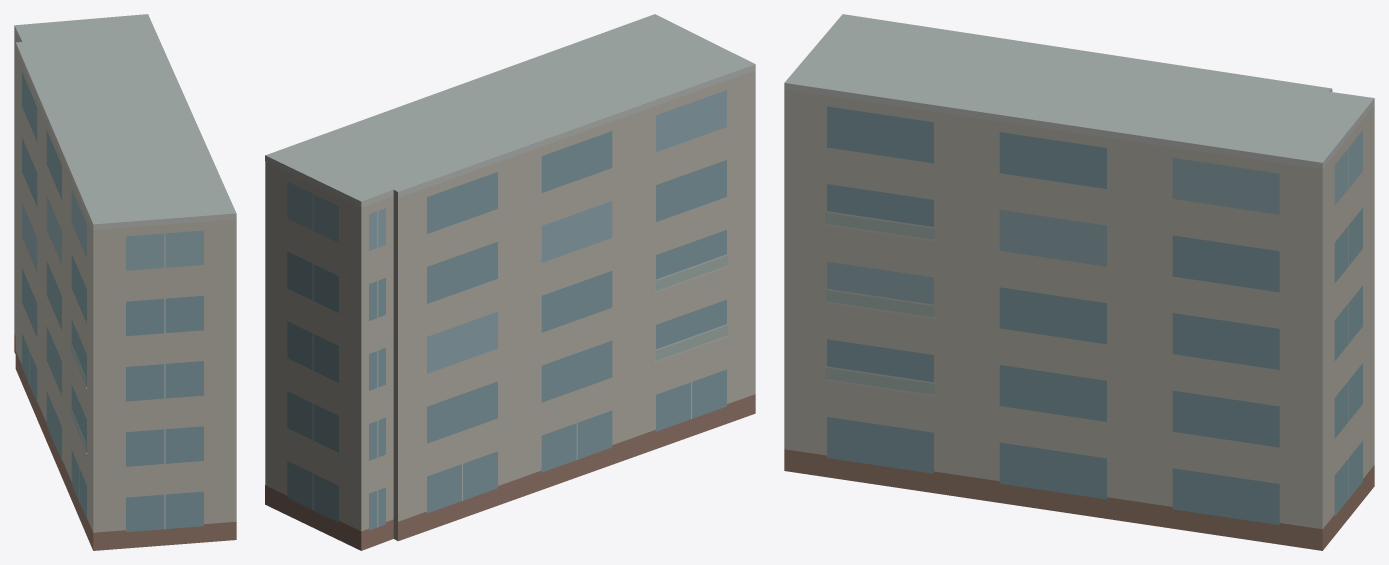
Rendered from survey-upis-32884273.glb.
3 renders of one model, left to right at view 1: azimuth 30°, elevation 25°; view 2: azimuth 150°, elevation 25°; view 3: azimuth 270°, elevation 25°, orthographic. The views are drawn at different scales.
Visible parts, largest first — view 1: survey-upis-32884273.tmp; view 2: survey-upis-32884273.tmp; view 3: survey-upis-32884273.tmp.
Part boxes in pixels (x1,y1,x2,y2): survey-upis-32884273.tmp: [14, 14, 236, 550]; survey-upis-32884273.tmp: [265, 14, 755, 550]; survey-upis-32884273.tmp: [784, 14, 1374, 550].
Size of the model in its own units: 11.77 by 14.3 by 19.73.
